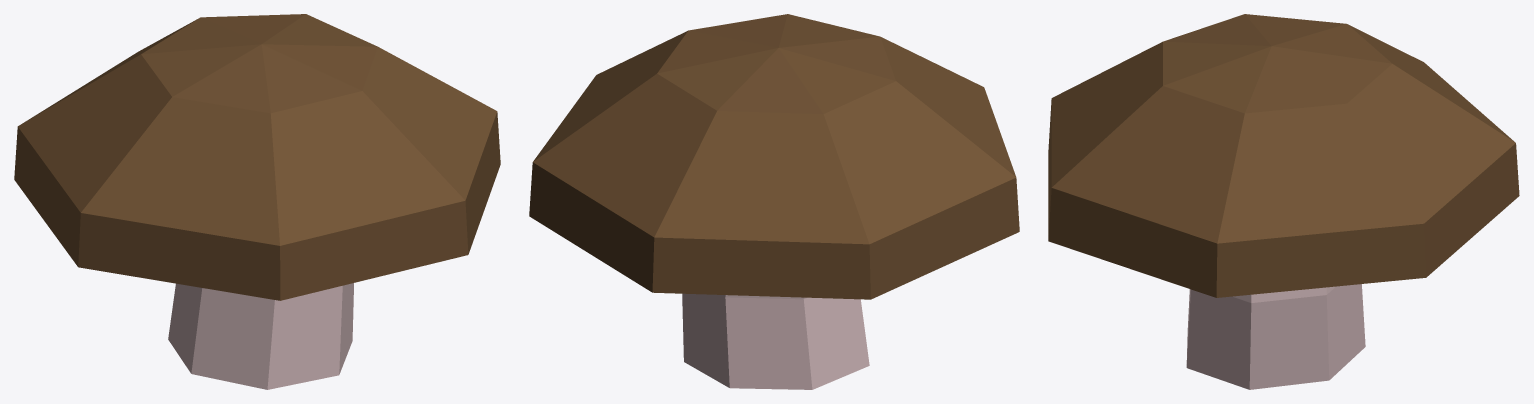
Rendered from small-mushroom.fbx.
3 renders of one model, left to right at view 1: azimuth 30°, elevation 25°; view 2: azimuth 150°, elevation 25°; view 3: azimuth 270°, elevation 25°, orthographic.
Visible parts, largest first — view 1: SmallMushroom; view 2: SmallMushroom; view 3: SmallMushroom.
Part boxes in pixels (box(x1,y1,x2,y2)): SmallMushroom: box(14, 14, 500, 389); SmallMushroom: box(529, 14, 1019, 389); SmallMushroom: box(1048, 14, 1519, 389).
Bounding box in the file's own units: 0.1449 × 0.101 × 0.1413.
